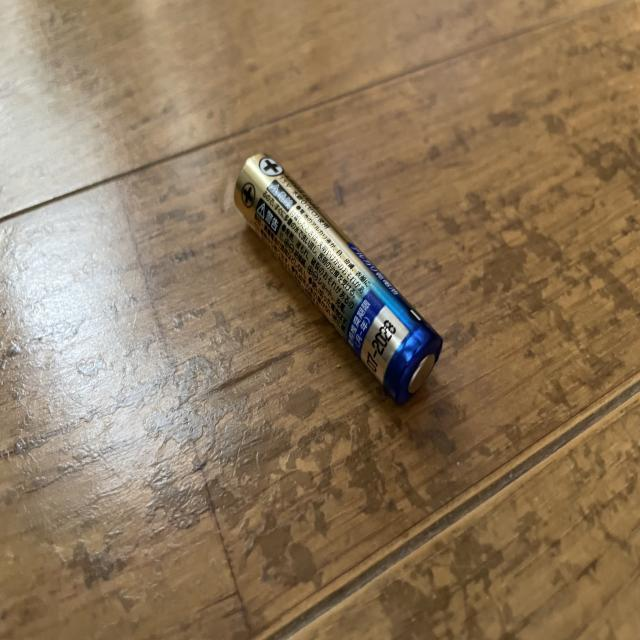Hazard: (234, 150, 446, 413)
